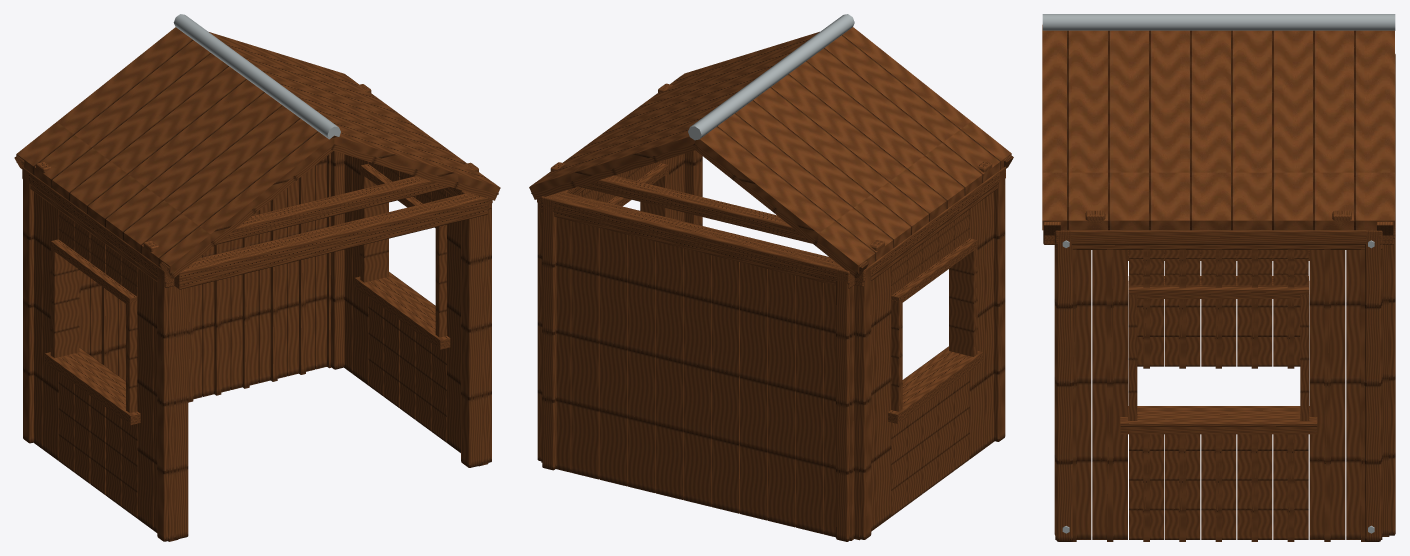
File: rural-scavenging-settlements-washhouse-shell-fc544348__26521.glb
3 renders of one model, left to right at view 1: azimuth 30°, elevation 25°; view 2: azimuth 150°, elevation 25°; view 3: azimuth 270°, elevation 25°, orthographic. The views are drawn at different scales.
Parts seen in each view (by area): view 1: washhouse-shell; view 2: washhouse-shell; view 3: washhouse-shell.
Part boxes in pixels (x1,y1,x2,y2): washhouse-shell: [14, 14, 500, 541]; washhouse-shell: [529, 14, 1013, 541]; washhouse-shell: [1042, 14, 1395, 541].
Bounding box in the file's own units: 2.76 × 2.93 × 2.15.
Materials: 2 (1 with a texture image).
